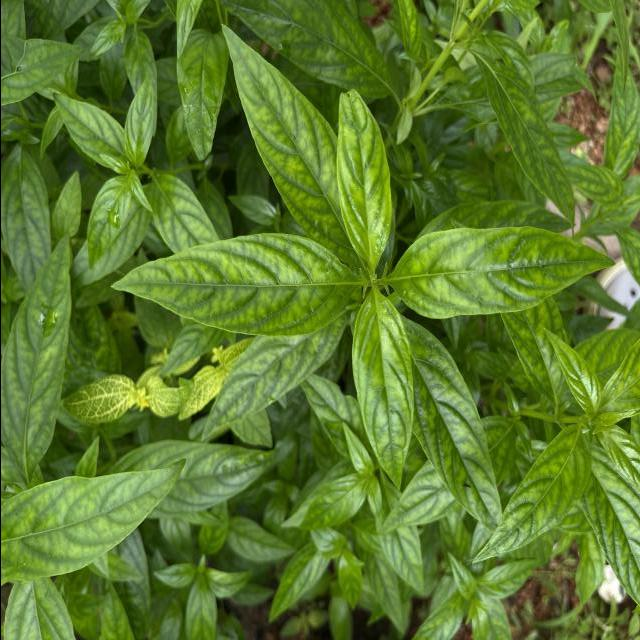Andrographis paniculata: (215, 21, 342, 247), (106, 230, 360, 342), (0, 458, 189, 584), (388, 226, 615, 321), (402, 316, 500, 532), (0, 230, 74, 482), (473, 51, 580, 224), (469, 422, 594, 568), (198, 336, 346, 444), (351, 286, 414, 494), (333, 87, 392, 273), (177, 32, 227, 168), (49, 89, 122, 167), (542, 328, 602, 418), (85, 176, 134, 272)
